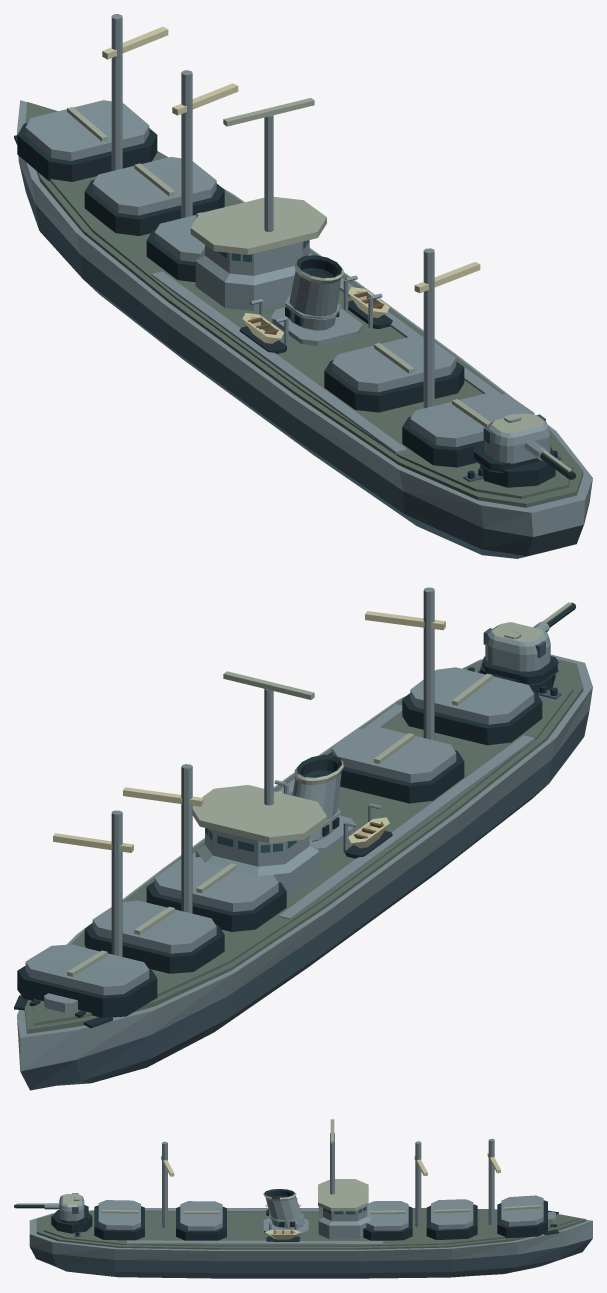
The model's file is transport.glb.
3 views of the same model, one above another, from view 1: azimuth 30°, elevation 25°; view 2: azimuth 150°, elevation 25°; view 3: azimuth 270°, elevation 25° (orthographic). The views are drawn at different scales.
Visible parts, largest first — view 1: transport-transport-geometry, transport-cargo-wheelhouse-geometry, transport-turret_main_0.003-geometry, transport-historic_funnel_0.005-geometry; view 2: transport-transport-geometry, transport-cargo-wheelhouse-geometry, transport-turret_main_0.003-geometry, transport-historic_funnel_0.005-geometry; view 3: transport-transport-geometry, transport-cargo-wheelhouse-geometry, transport-turret_main_0.003-geometry, transport-historic_funnel_0.005-geometry.
Part boxes in pixels (x1,y1,x2,y2): transport-transport-geometry: [14, 14, 592, 558]; transport-cargo-wheelhouse-geometry: [190, 98, 326, 310]; transport-turret_main_0.003-geometry: [472, 413, 575, 487]; transport-historic_funnel_0.005-geometry: [271, 255, 362, 345]; transport-transport-geometry: [14, 587, 592, 1090]; transport-cargo-wheelhouse-geometry: [192, 671, 326, 898]; transport-turret_main_0.003-geometry: [480, 602, 575, 693]; transport-historic_funnel_0.005-geometry: [292, 754, 354, 853]; transport-transport-geometry: [29, 1138, 592, 1278]; transport-cargo-wheelhouse-geometry: [318, 1119, 371, 1239]; transport-turret_main_0.003-geometry: [14, 1193, 92, 1233]; transport-historic_funnel_0.005-geometry: [263, 1189, 308, 1235].
Bounding box in the file's own units: 0.7423 × 1.13 × 4.24.
